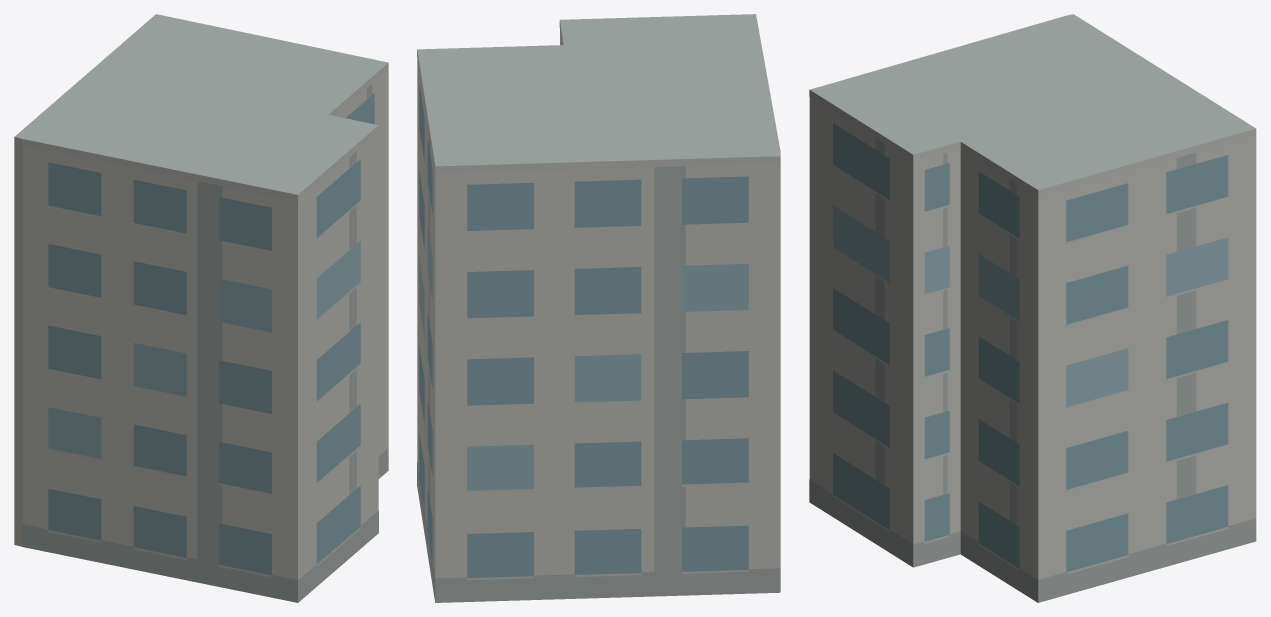
Rendered from survey-upis-32814823.glb.
3 views of the same model, side by side, from view 1: azimuth 30°, elevation 25°; view 2: azimuth 150°, elevation 25°; view 3: azimuth 270°, elevation 25° (orthographic). The views are drawn at different scales.
Parts seen in each view (by area): view 1: survey-upis-32814823.tmp; view 2: survey-upis-32814823.tmp; view 3: survey-upis-32814823.tmp.
Part boxes in pixels (left/top/right/bottom): survey-upis-32814823.tmp: left=14, top=14, right=388, bottom=602; survey-upis-32814823.tmp: left=417, top=14, right=780, bottom=602; survey-upis-32814823.tmp: left=809, top=14, right=1256, bottom=602.
Size of the model in its own units: 13.28 by 14.5 by 14.23.
